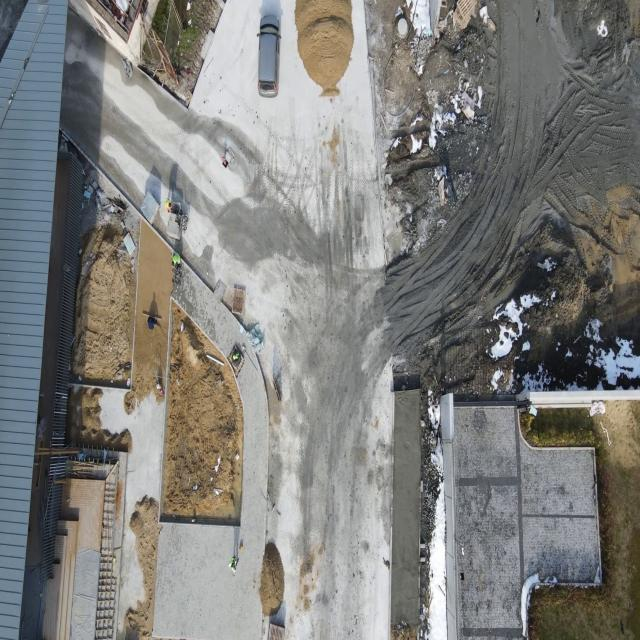p3rson: (228, 554, 239, 574), (171, 252, 181, 269), (146, 315, 158, 329), (164, 198, 173, 214)
